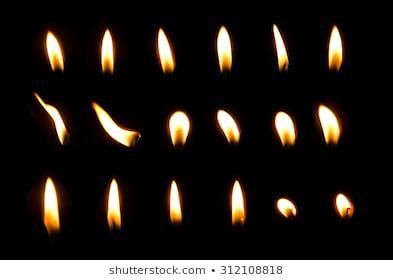fire: (91, 101, 138, 145), (33, 93, 68, 144), (41, 174, 61, 237), (315, 102, 341, 143), (103, 176, 122, 229), (326, 23, 345, 72), (167, 107, 191, 145), (156, 26, 175, 73), (44, 30, 65, 72), (216, 108, 241, 143), (216, 24, 233, 75), (229, 178, 247, 226), (273, 108, 296, 145), (270, 23, 288, 70), (99, 26, 115, 75), (168, 177, 183, 224), (333, 192, 354, 218)
